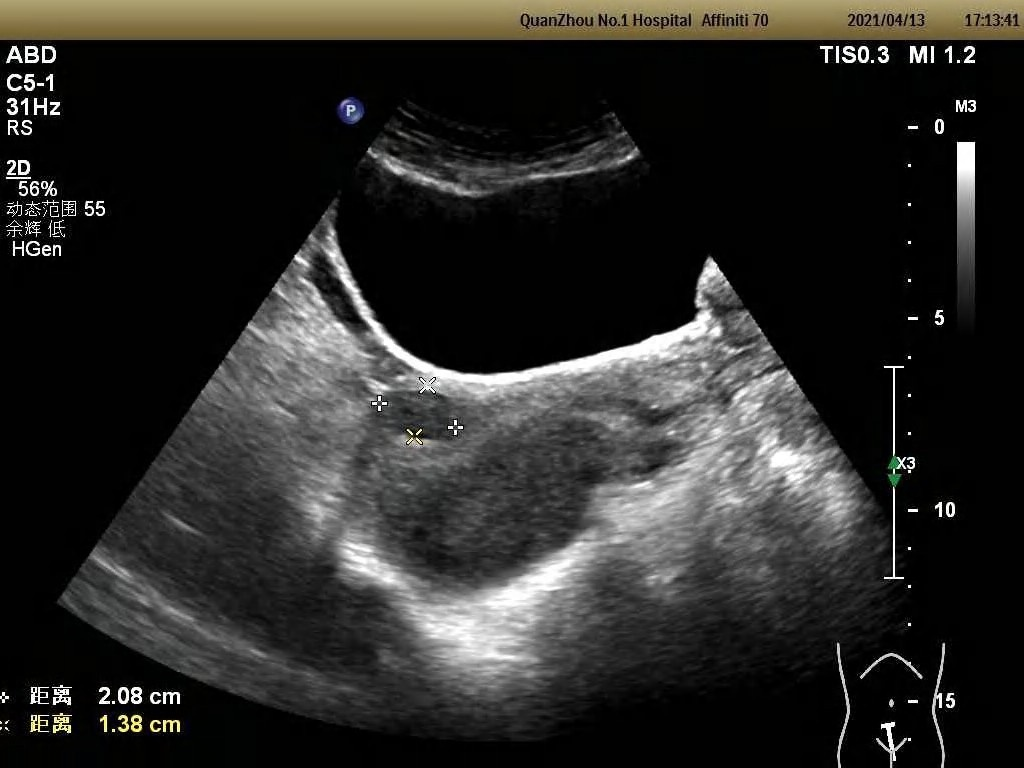肌瘤: (380, 386, 458, 439)
